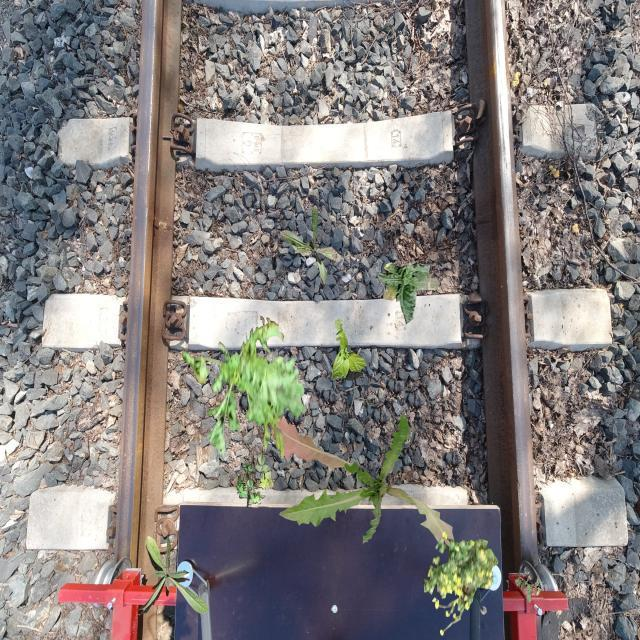Plant: (271, 413, 464, 565), (182, 316, 307, 463), (424, 531, 499, 636), (137, 535, 208, 616), (279, 205, 343, 289), (377, 263, 440, 325), (332, 318, 368, 380), (236, 453, 274, 508), (515, 573, 542, 604)
